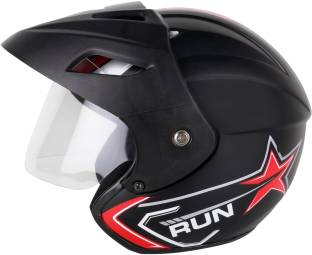with_helmet: (3, 2, 312, 247)
